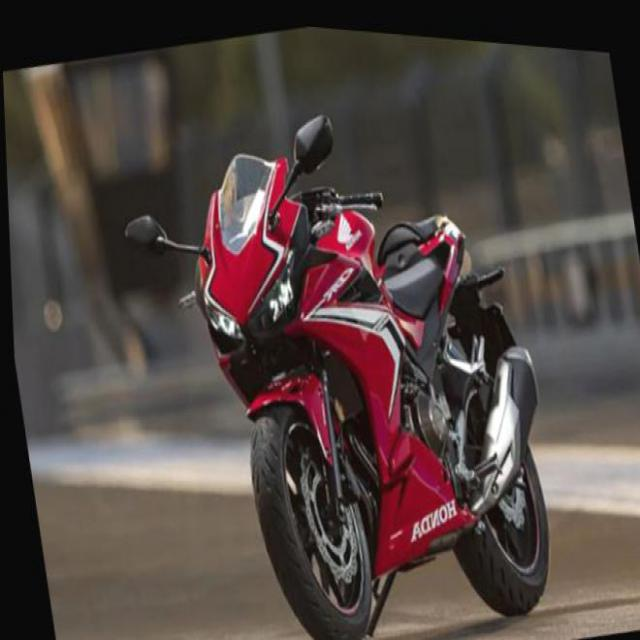CBR500R: (104, 48, 570, 639)
